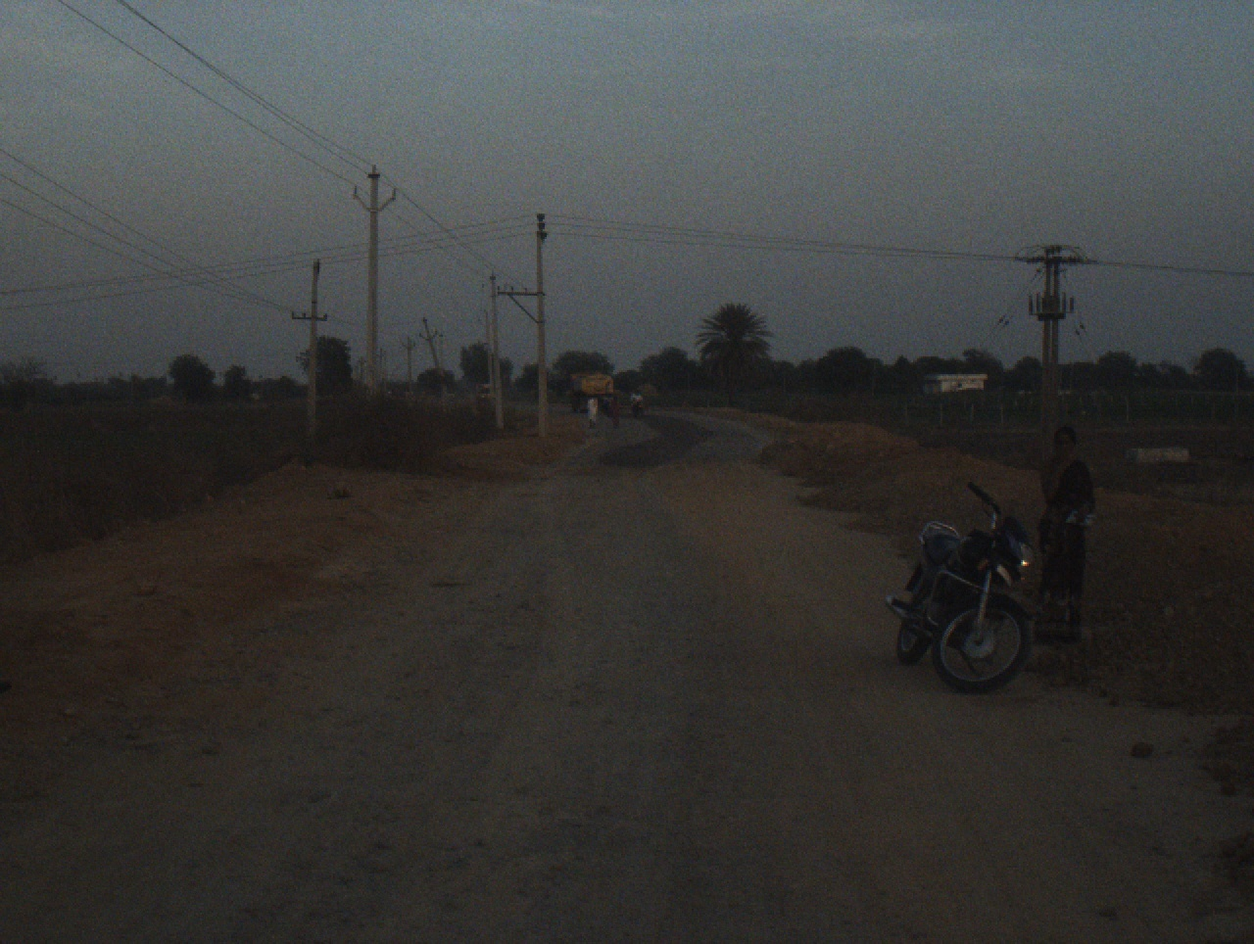motorcycle: (882, 471, 1037, 696), (629, 397, 645, 420)
person: (1034, 421, 1098, 648), (581, 391, 600, 432), (606, 387, 623, 426)
rider: (631, 389, 645, 407)
truck: (564, 367, 616, 407), (473, 382, 490, 401)
